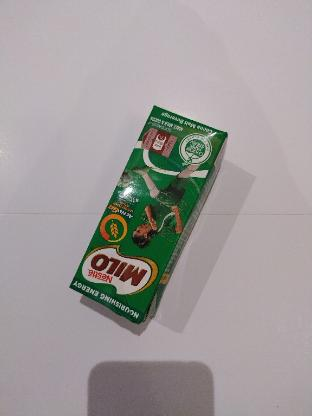Others: (70, 106, 228, 323)
